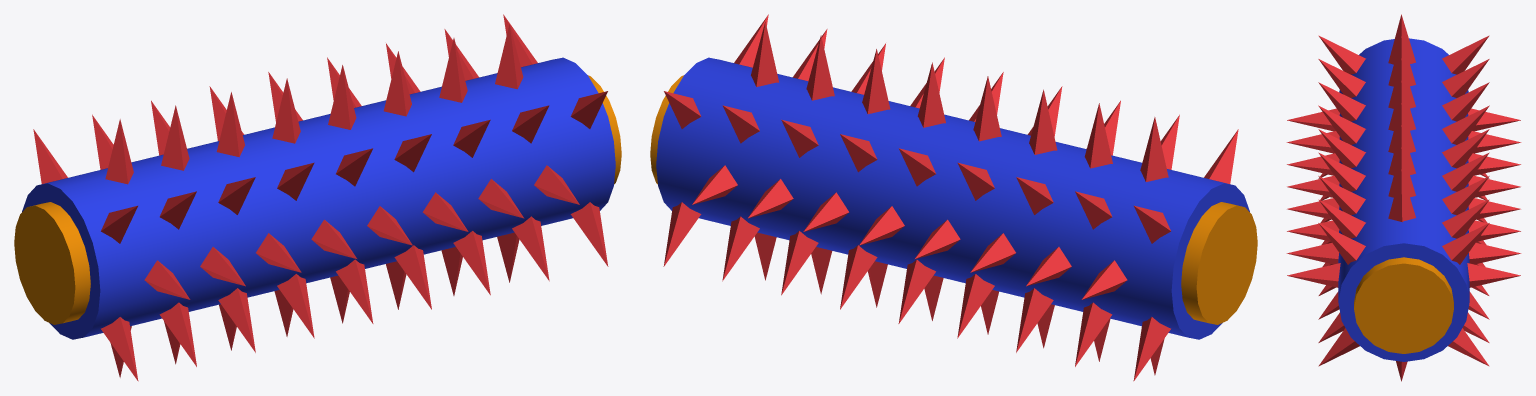
File: engel11.fbx
3 views of the same model, side by side, from view 1: azimuth 30°, elevation 25°; view 2: azimuth 150°, elevation 25°; view 3: azimuth 270°, elevation 25° (orthographic). The views are drawn at different scales.
Visible parts, largest first — view 1: Cylinder.015; view 2: Cylinder.015; view 3: Cylinder.015.
Boxes of the visible parts, x1,y1,x2,y2 form: Cylinder.015: (14,14,621,381); Cylinder.015: (650,14,1257,381); Cylinder.015: (1286,14,1521,381).
Bounding box in the file's own units: 527 × 240 × 241.
